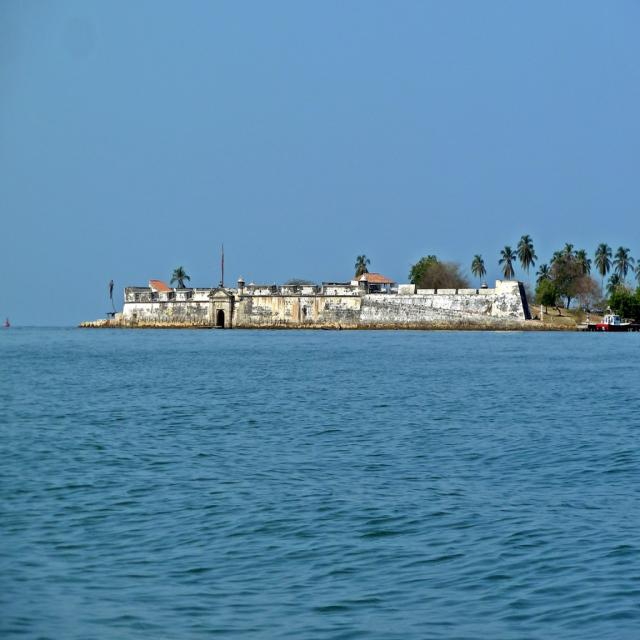Boat: (596, 308, 630, 335)
